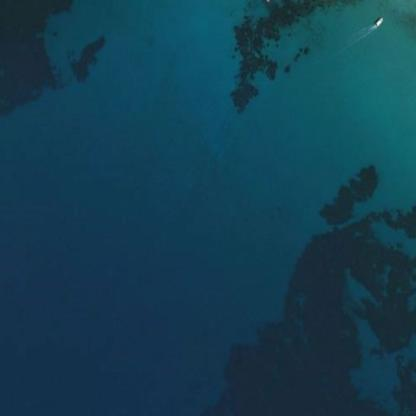ship: (364, 12, 391, 31)
